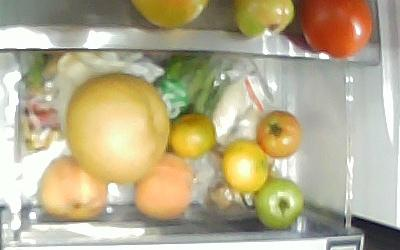peach: (39, 155, 108, 223), (131, 153, 194, 220)
pear: (66, 73, 171, 183)
tangerine: (222, 138, 267, 193), (169, 114, 215, 159)
tomato: (256, 177, 305, 229), (257, 109, 303, 158)
